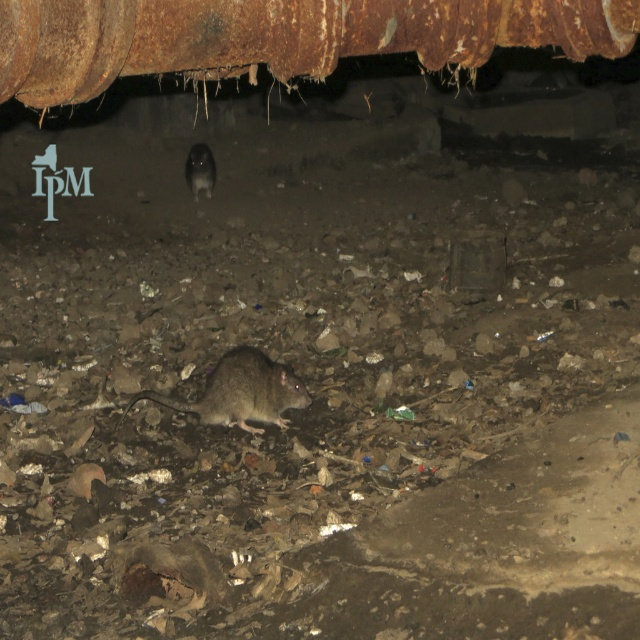Mouse: (118, 348, 309, 434)
